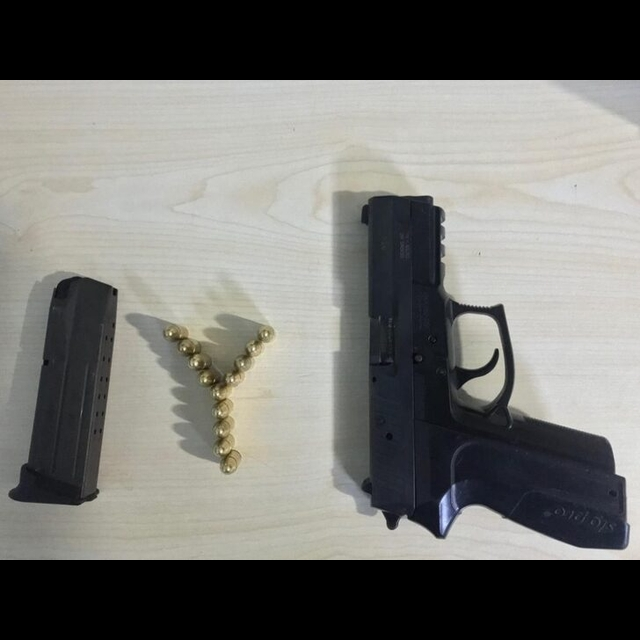SILAH: (355, 188, 633, 552)
